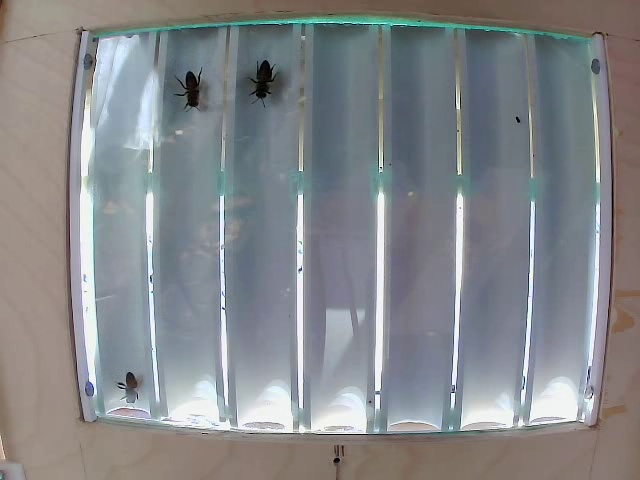bee: (166, 74, 215, 115), (248, 65, 285, 110)
